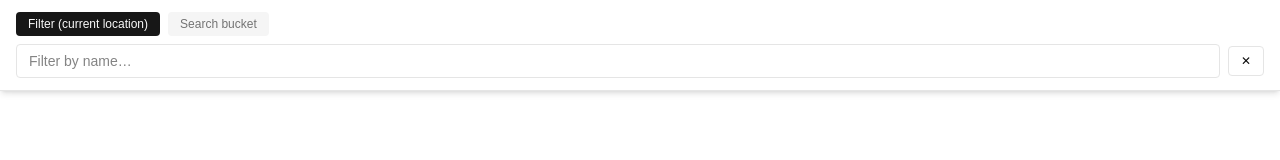
Scenario: SearchBox — bucket mode › shows results streamed via search:page events
Note: Switch to bucket mode first.
Click the button with test id "mode-bucket".
click(218, 24)  # box [168,12,269,36]
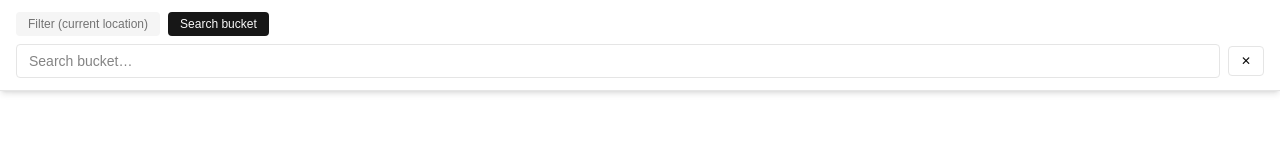
Note: Start a search.
Type "photo" into the search field with test id "search-input".
click(618, 61); type("photo")  # box [16,44,1220,78]
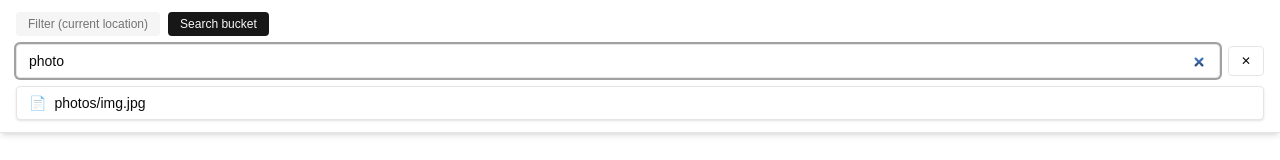
Expected: the element with test id "search-results" is shown, [16,86,1264,120]
